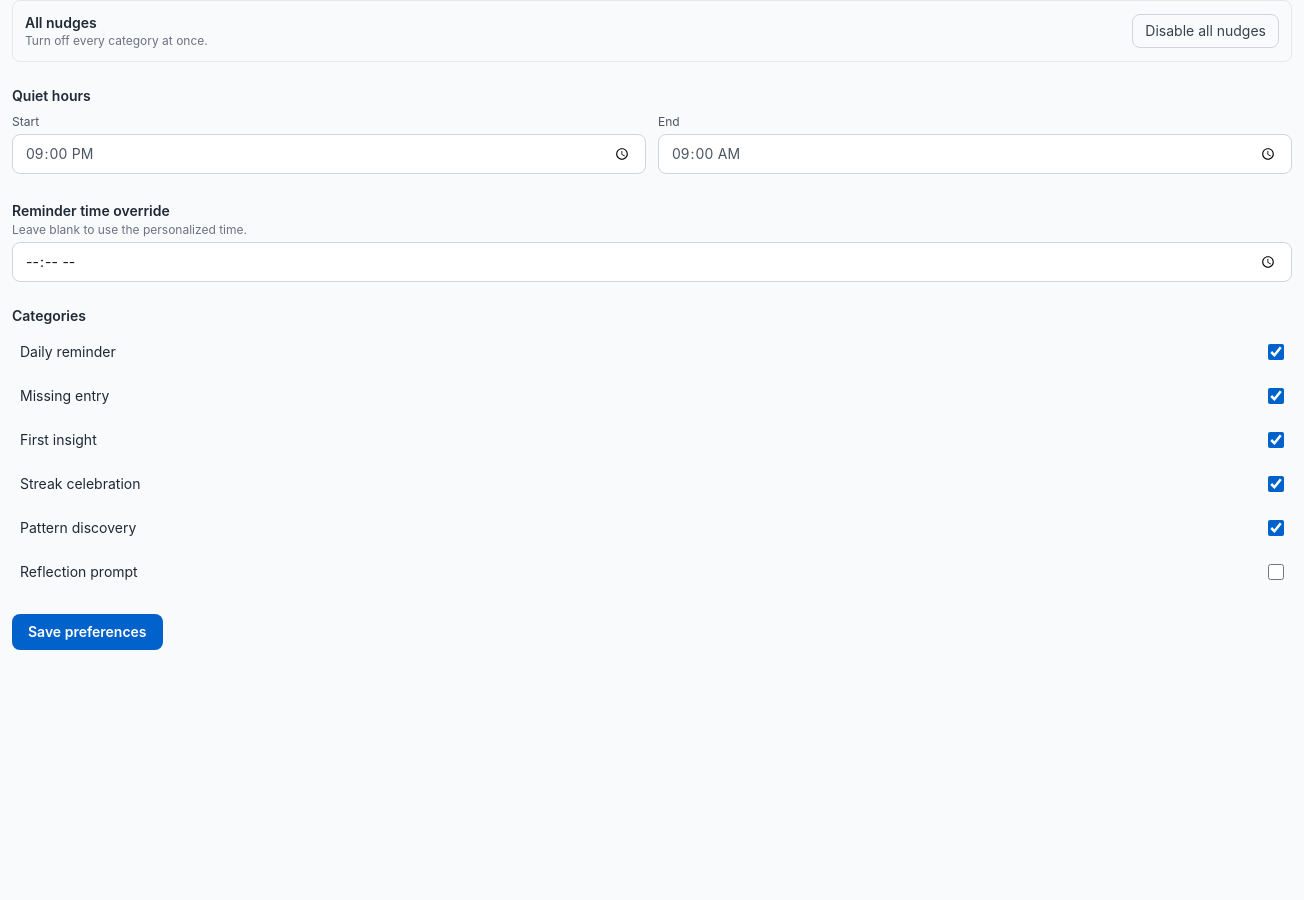
PreferencesForm › saves merged payload and shows confirmation
Step 1. Click the checkbox labelled "Reflection prompt" → x=1276, y=572, box [1268,564,1284,580]
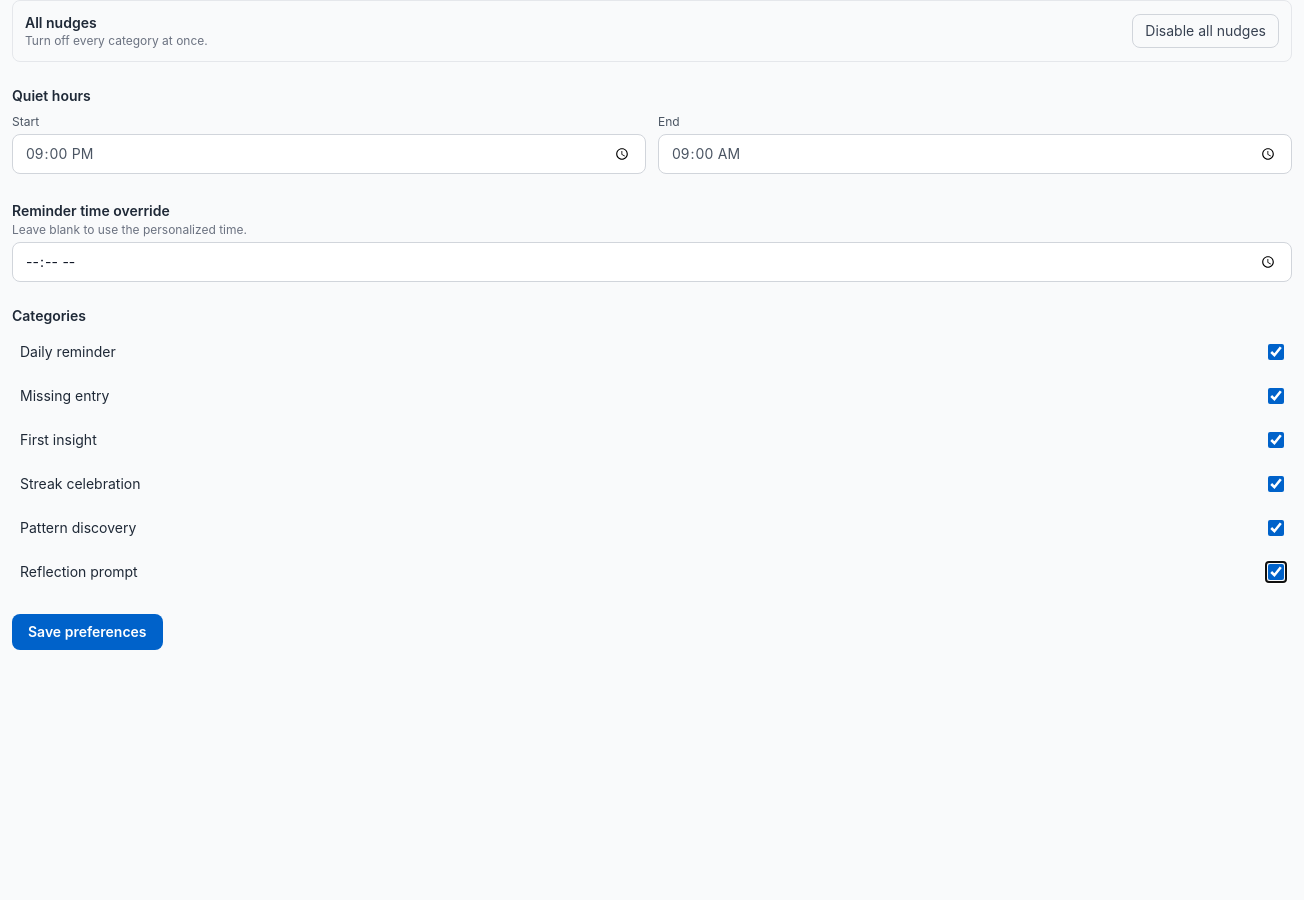
Step 2. Click the button "Save preferences" → x=87, y=632, box [12,614,162,650]
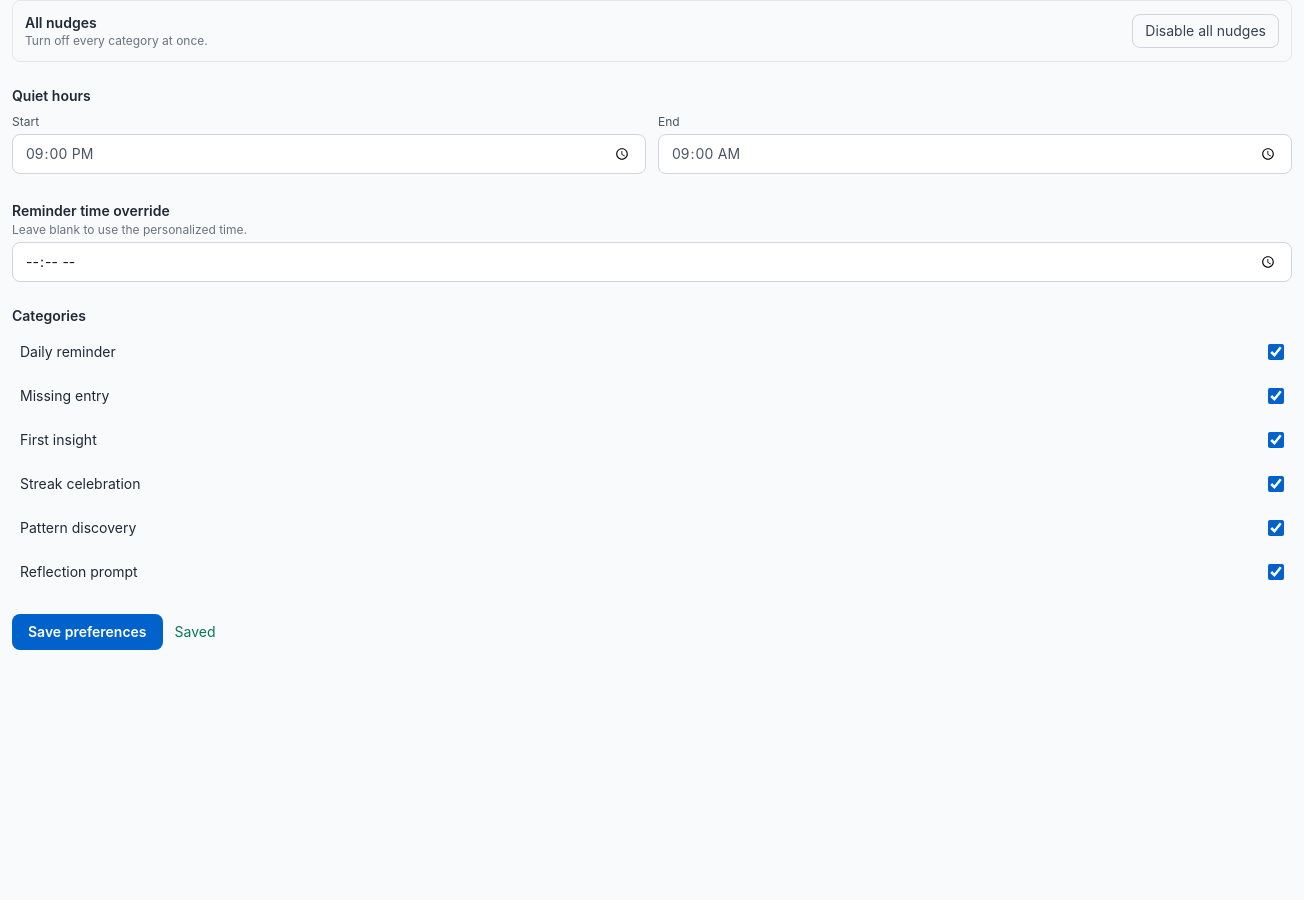
expect the message reads "Saved": met, box [174,623,216,640]
